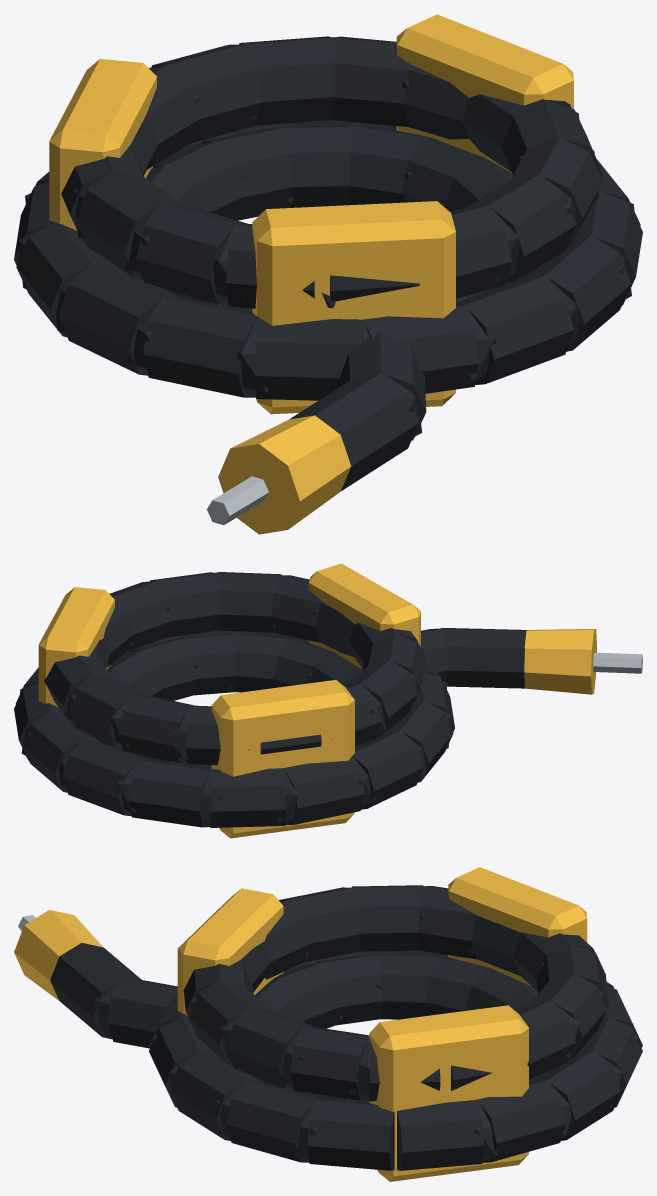
Rendered from Prop_RolledCable.fbx.
The picture shows the model from 3 angles, top to bottom: view 1: azimuth 30°, elevation 25°; view 2: azimuth 150°, elevation 25°; view 3: azimuth 270°, elevation 25°; orthographic projection. The views are drawn at different scales.
Parts seen in each view (by area): view 1: Rubber, Amber_Metal, SteelLight; view 2: Rubber, Amber_Metal, SteelLight; view 3: Rubber, Amber_Metal.
Part boxes in pixels (bbox=[...]): Rubber: bbox=[14, 36, 642, 490]; Amber_Metal: bbox=[49, 14, 573, 534]; SteelLight: bbox=[207, 476, 268, 525]; Rubber: bbox=[14, 572, 527, 827]; Amber_Metal: bbox=[38, 563, 596, 838]; SteelLight: bbox=[593, 652, 642, 673]; Rubber: bbox=[50, 885, 642, 1170]; Amber_Metal: bbox=[14, 867, 587, 1181].
Size of the model in its own units: 2.59 by 0.74 by 2.89.
